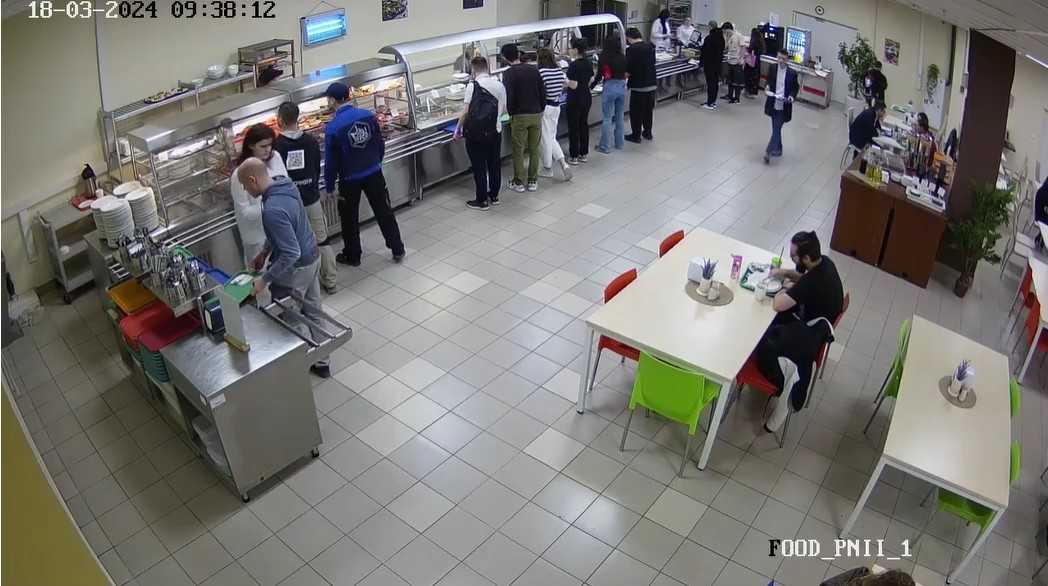Na_Kasse: (699, 22, 720, 108), (743, 26, 763, 102), (722, 22, 740, 102)
Ne_v_Ocheredi: (756, 49, 805, 164)
Vybiraet: (238, 159, 347, 382), (318, 80, 396, 262), (230, 123, 300, 278), (497, 44, 548, 191), (462, 50, 502, 210), (269, 102, 320, 213), (540, 53, 574, 179), (595, 33, 630, 147), (564, 41, 595, 161), (629, 27, 658, 140)
Za_Stolom: (761, 212, 857, 335), (775, 554, 926, 586), (842, 104, 886, 163), (1025, 170, 1048, 247), (866, 55, 890, 106), (921, 124, 943, 154), (915, 108, 932, 127)
